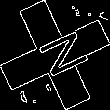N_SW: (24, 26, 86, 84)
